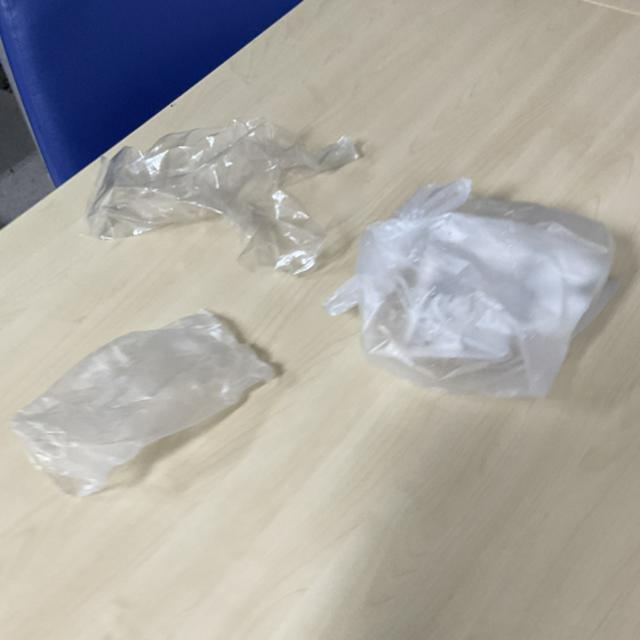Single-layer Plastic: (325, 178, 616, 397), (11, 310, 274, 496), (88, 119, 358, 273)
